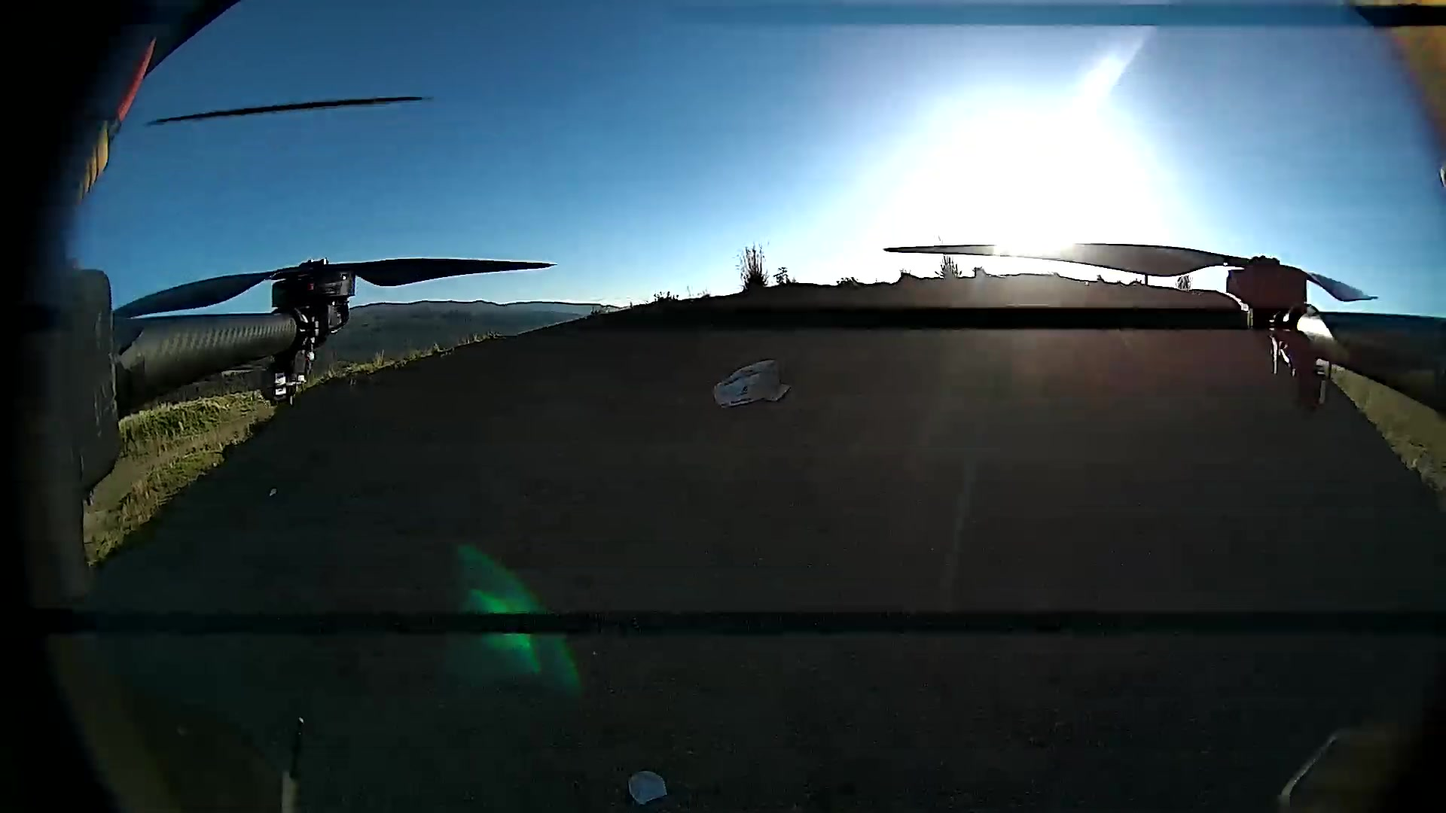Target: (710, 355, 794, 413)
